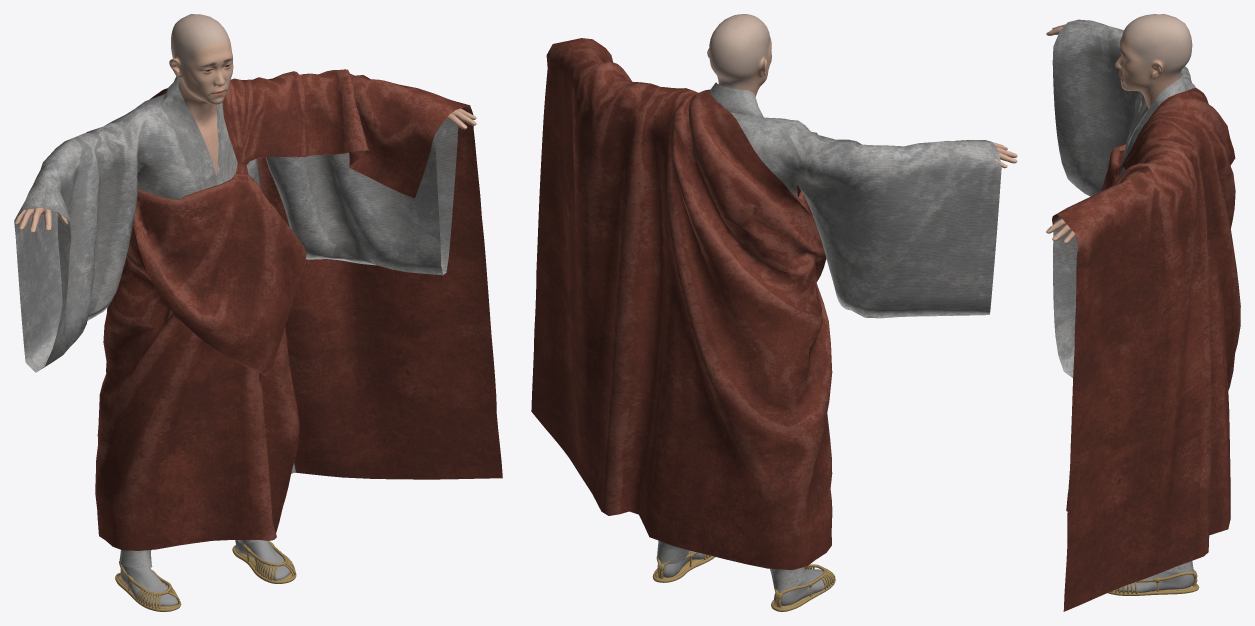
3 views of the same model, side by side, from view 1: azimuth 30°, elevation 25°; view 2: azimuth 150°, elevation 25°; view 3: azimuth 270°, elevation 25° (orthographic). The views are drawn at different scales.
Visible parts, largest first — view 1: gasa001, upper001, man001, ChamferBox004; view 2: gasa001, upper001, man001, ChamferBox004, pants001; view 3: gasa001, upper001, man001, ChamferBox004.
Boxes of the visible parts, x1,y1,x2,y2 form: gasa001: (95, 69, 502, 550); upper001: (14, 76, 458, 473); man001: (15, 14, 476, 606); ChamferBox004: (115, 541, 296, 611); gasa001: (531, 38, 832, 569); upper001: (709, 82, 1001, 318); man001: (658, 14, 1017, 605); ChamferBox004: (652, 551, 835, 611); pants001: (657, 540, 806, 590); gasa001: (1052, 88, 1240, 611); upper001: (1052, 19, 1195, 377); man001: (1046, 14, 1194, 592); ChamferBox004: (1108, 569, 1199, 595).
Size of what is drawn, in the model's own units: 143 by 159 by 51.41.
6 materials, 5 textured.
